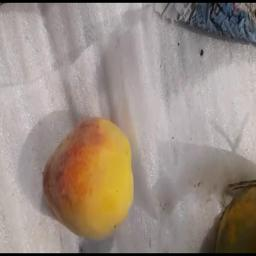Peach Semifresh: (34, 109, 150, 244)
